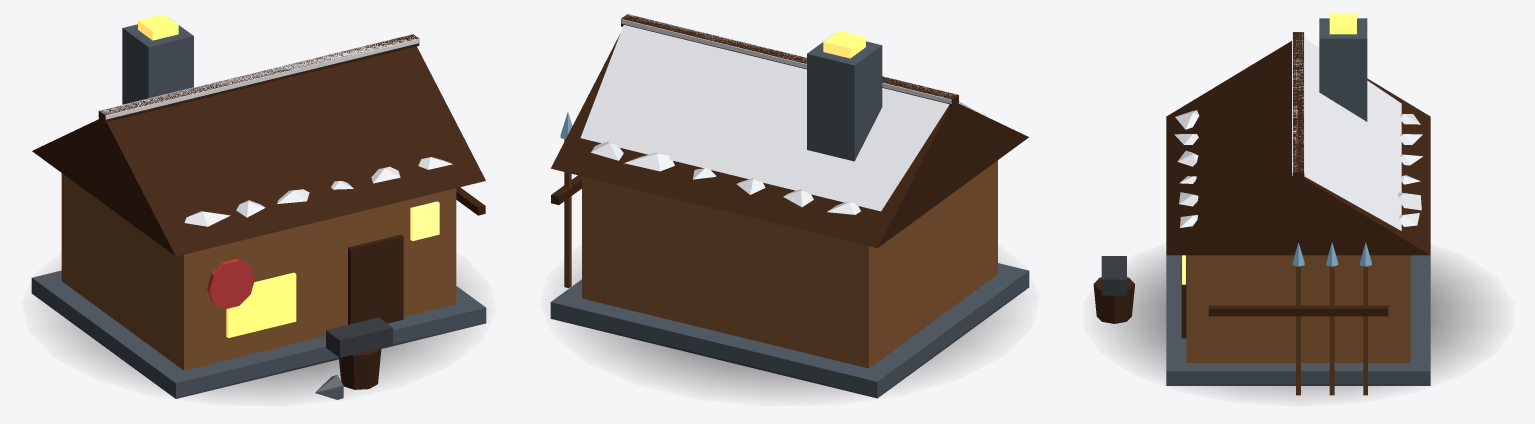
Rendered from workshop_t0.glb.
The picture shows the model from 3 angles, left to right: view 1: azimuth 30°, elevation 25°; view 2: azimuth 150°, elevation 25°; view 3: azimuth 270°, elevation 25°; orthographic projection. The views are drawn at different scales.
Visible parts, largest first — view 1: workshop_t0; view 2: workshop_t0; view 3: workshop_t0.
Part boxes in pixels (x1=…): workshop_t0: x1=31, y1=14, x2=486, y2=399; workshop_t0: x1=550, y1=14, x2=1029, y2=398; workshop_t0: x1=1093, y1=14, x2=1486, y2=398.
Size of the model in its own units: 5.61 by 3.78 by 5.55.
